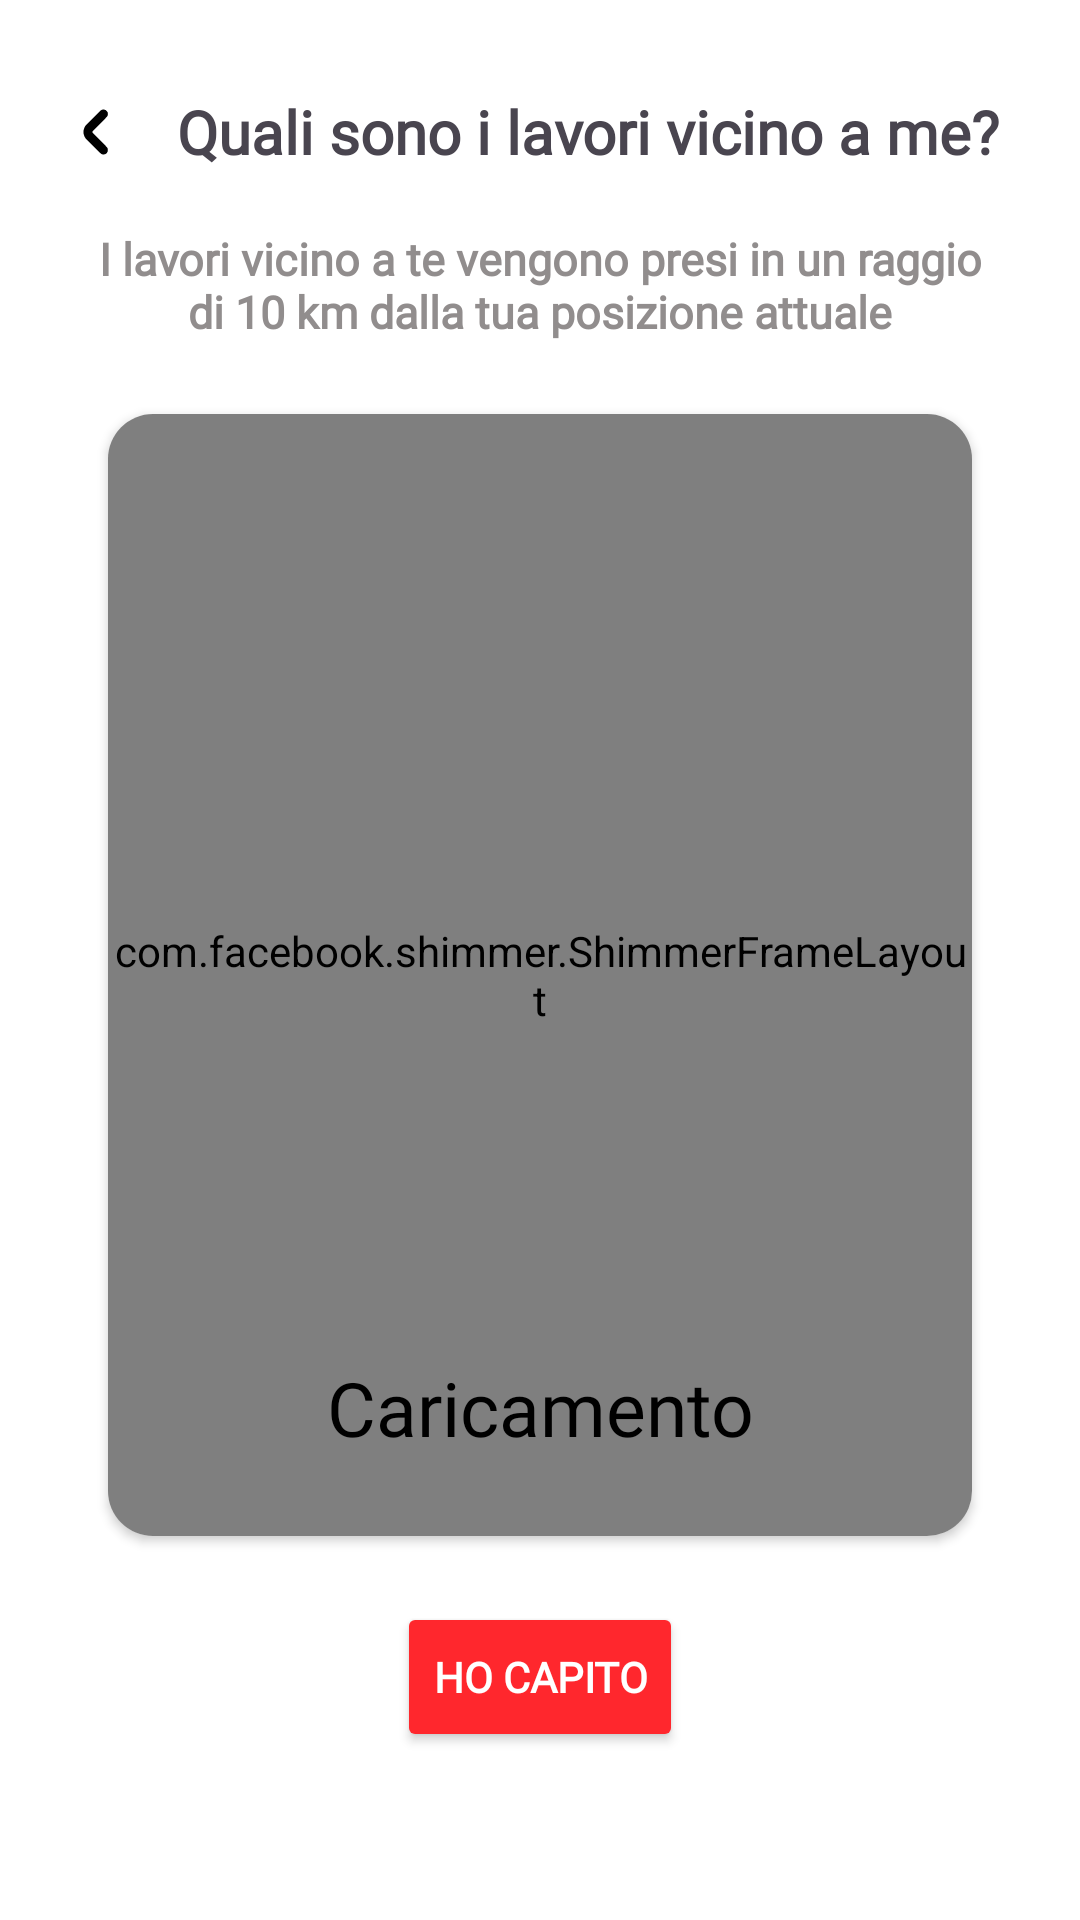

Named icons in this screenshot (1080x1920) and their bounding boxes, (x1, y1, x2, y2):
back: (83, 109, 108, 155)
